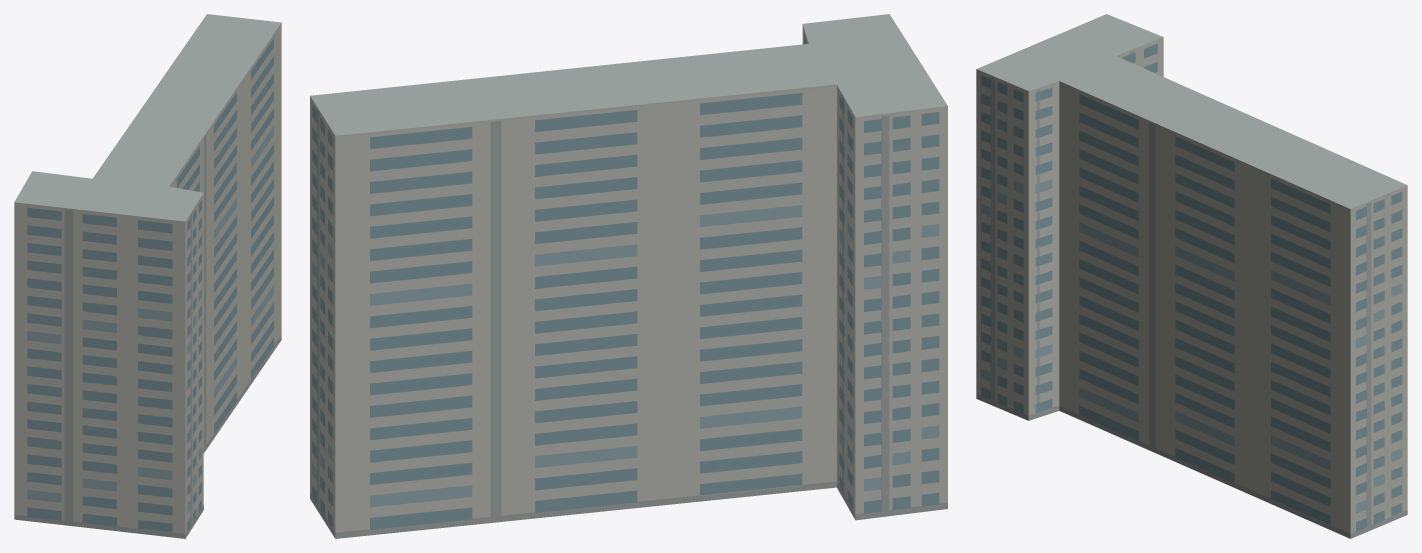
File: residential-74ab19f8-ea68-4b49-ae23-a6d01a281022.glb
3 views of the same model, side by side, from view 1: azimuth 30°, elevation 25°; view 2: azimuth 150°, elevation 25°; view 3: azimuth 270°, elevation 25° (orthographic). The views are drawn at different scales.
Parts seen in each view (by area): view 1: residential-74ab19f8-ea68-4b49-ae23-a6d01a281022.tmp; view 2: residential-74ab19f8-ea68-4b49-ae23-a6d01a281022.tmp; view 3: residential-74ab19f8-ea68-4b49-ae23-a6d01a281022.tmp.
Part boxes in pixels (x1,y1,x2,y2): residential-74ab19f8-ea68-4b49-ae23-a6d01a281022.tmp: (14,14,281,538); residential-74ab19f8-ea68-4b49-ae23-a6d01a281022.tmp: (310,14,947,538); residential-74ab19f8-ea68-4b49-ae23-a6d01a281022.tmp: (976,14,1407,538).
Bounding box in the file's own units: 60.92 × 48 × 56.86.
